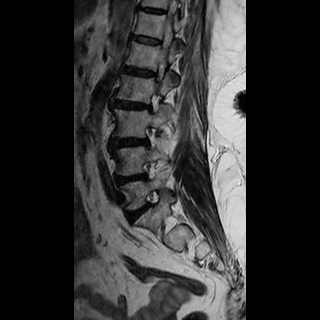LFS0: (138, 156, 165, 185), (139, 119, 162, 153), (141, 188, 164, 217), (143, 88, 165, 118)
